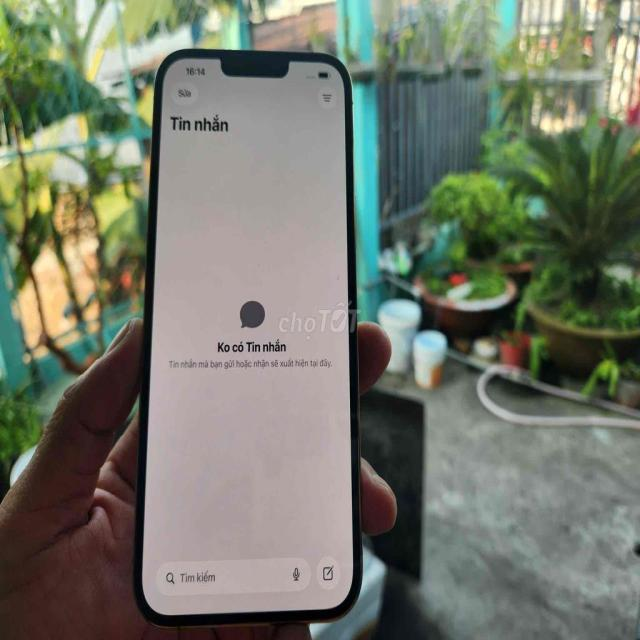gen_12_13: (134, 43, 368, 634)
